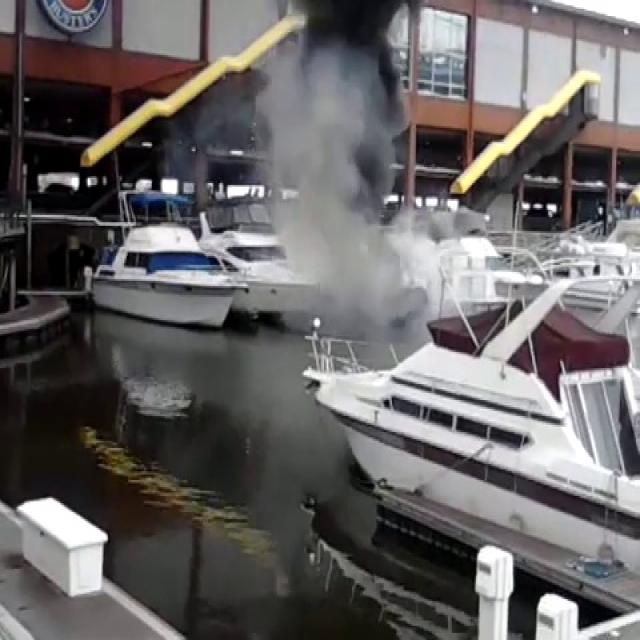Smoke: (218, 4, 430, 328)
